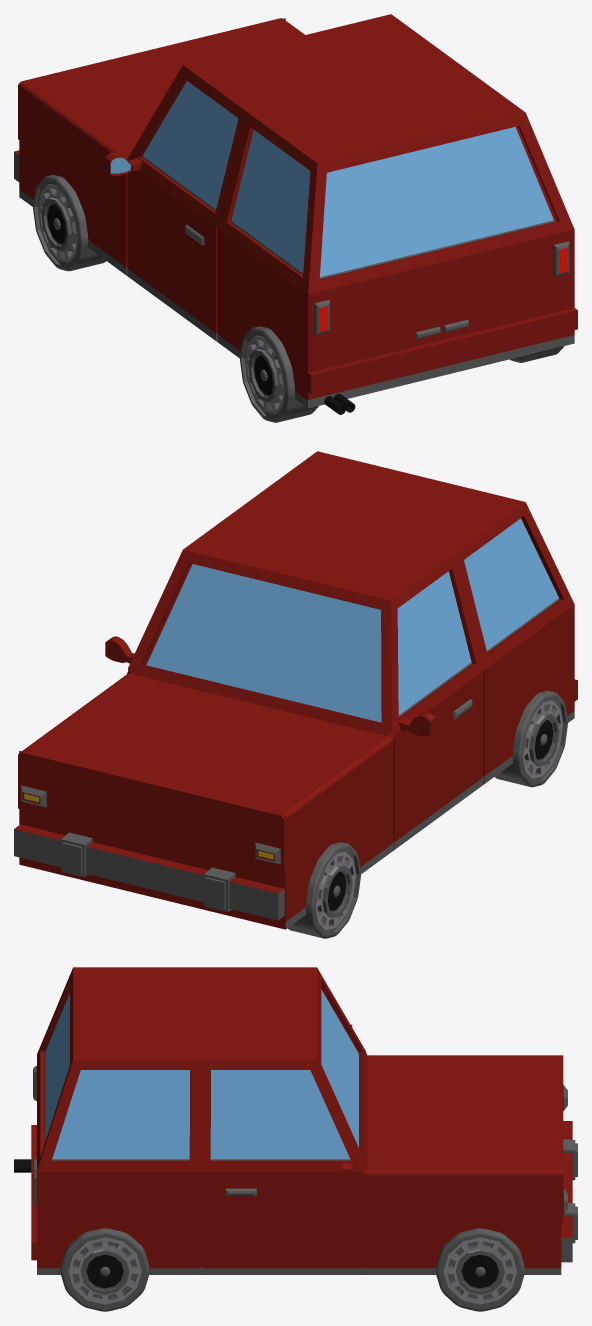
File: Fura.fbx
3 views of the same model, one above another, from view 1: azimuth 30°, elevation 25°; view 2: azimuth 150°, elevation 25°; view 3: azimuth 270°, elevation 25° (orthographic). The views are drawn at different scales.
Parts seen in each view (by area): view 1: Cube, Cylinder.001, Cylinder; view 2: Cube, Cylinder.001, Cylinder; view 3: Cube, Cylinder.002, Cylinder.003.
Part boxes in pixels (x1,y1,x2,y2): Cube: [14, 14, 577, 408]; Cylinder.001: [240, 326, 318, 422]; Cylinder: [33, 175, 105, 271]; Cube: [14, 451, 577, 929]; Cylinder.001: [495, 690, 567, 787]; Cylinder: [287, 842, 360, 938]; Cube: [31, 967, 577, 1274]; Cylinder.002: [436, 1228, 524, 1311]; Cylinder.003: [60, 1228, 149, 1311].
Size of the model in its own units: 244 by 187 by 404.
